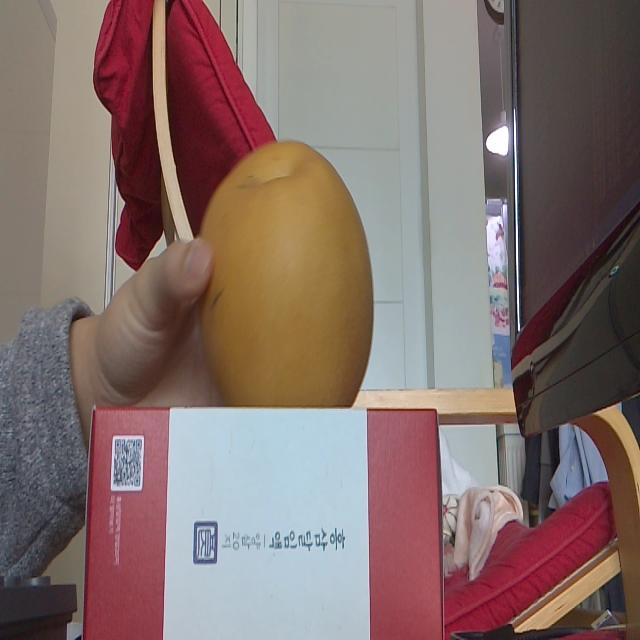pear: (194, 139, 374, 409)
